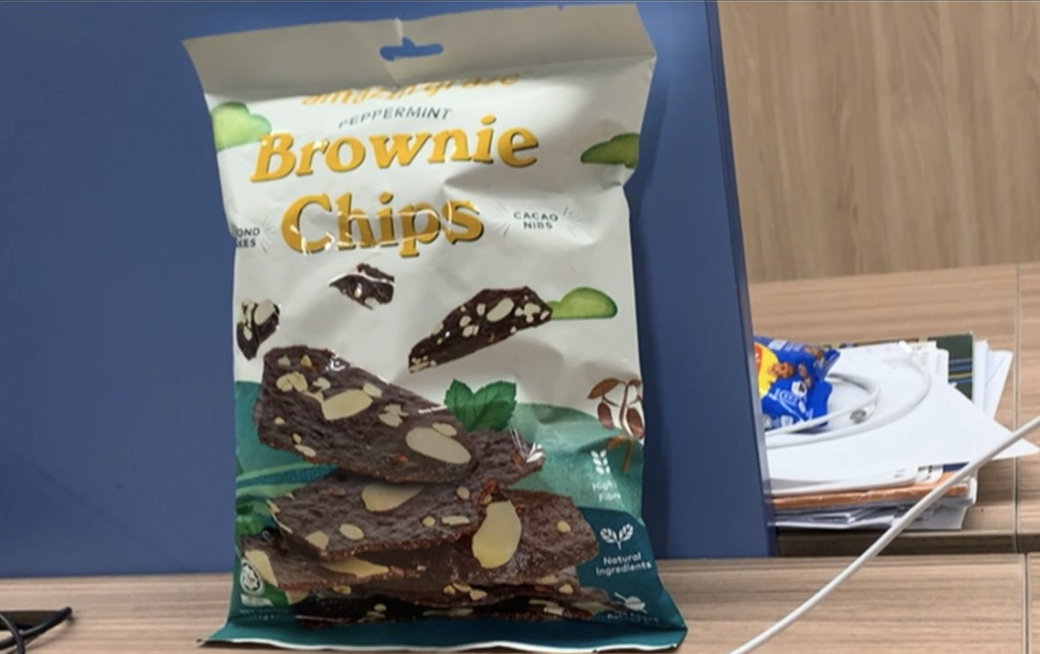crackers_150g: (226, 100, 647, 624)
